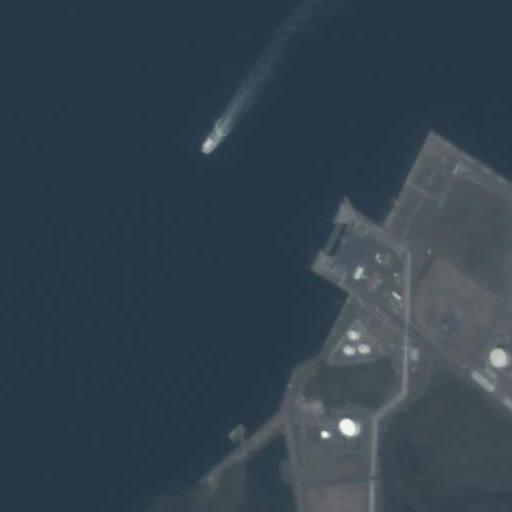person: (200, 135, 217, 154)
